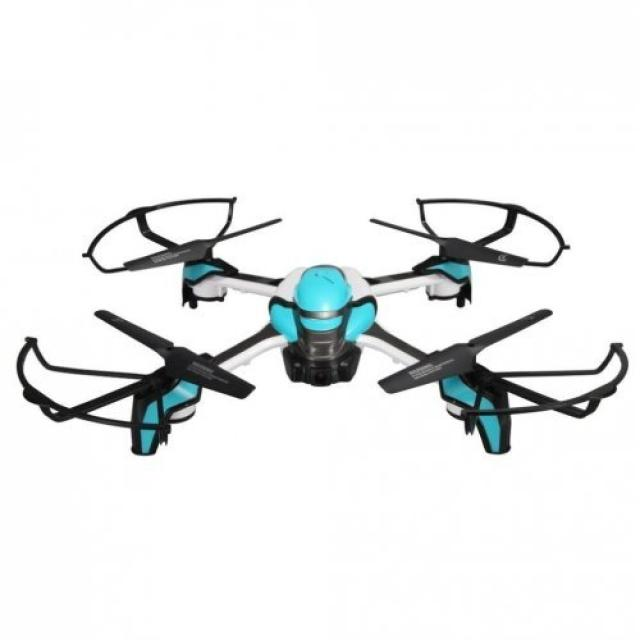drone: (13, 174, 632, 478)
